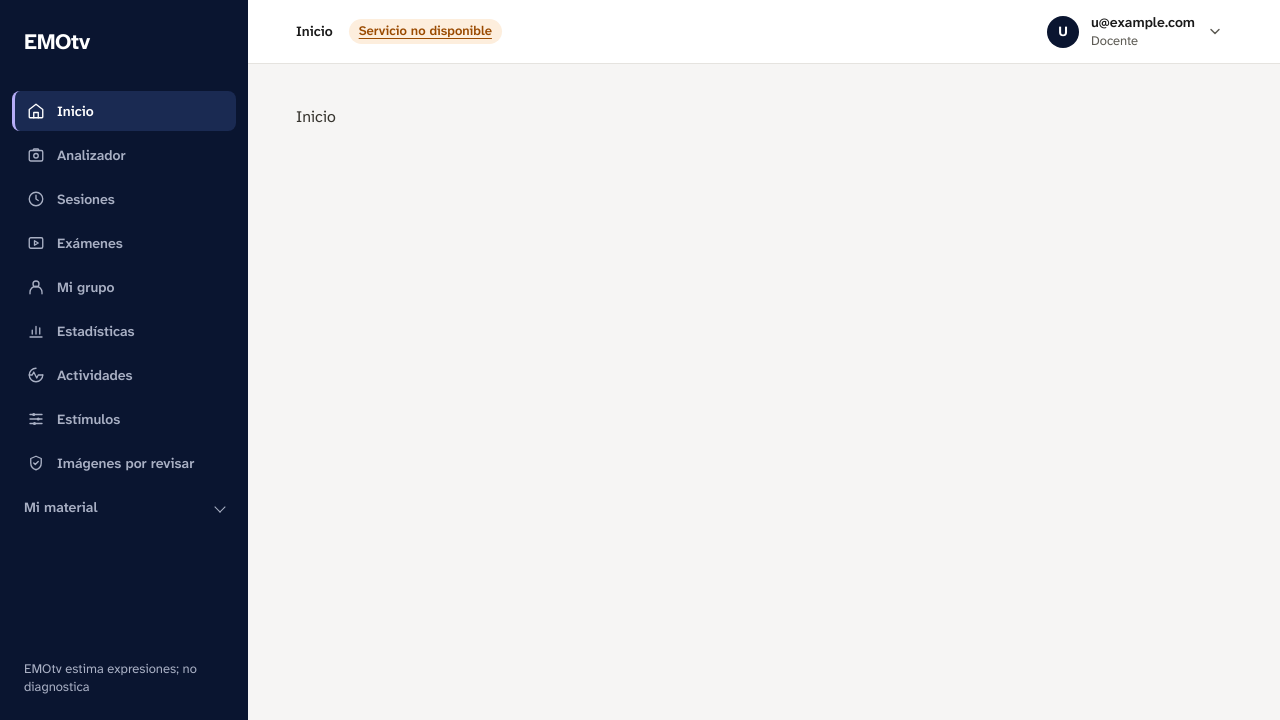
Test case: rutas y navegación por rol › abre el menú de usuario, muestra identidad y permite cerrar sesión
Click the button named "Menú de usuario".
click(1135, 32)  # box [1038, 10, 1232, 54]
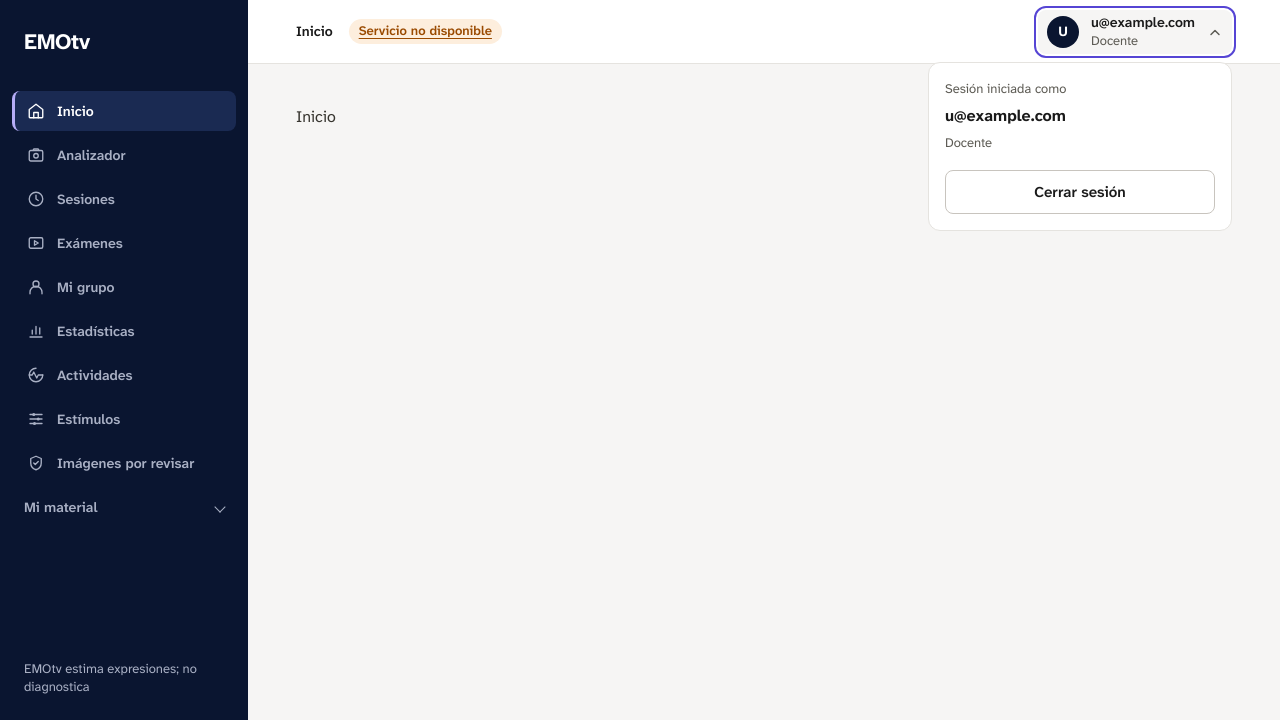
Check: the button named "Menú de usuario" is expanded, box [1038, 10, 1232, 54]
Check: the text "Sesión iniciada como" is shown, box [945, 80, 1066, 96]
Check: the button "Cerrar sesión" is shown, box [945, 170, 1215, 214]
Press Escape
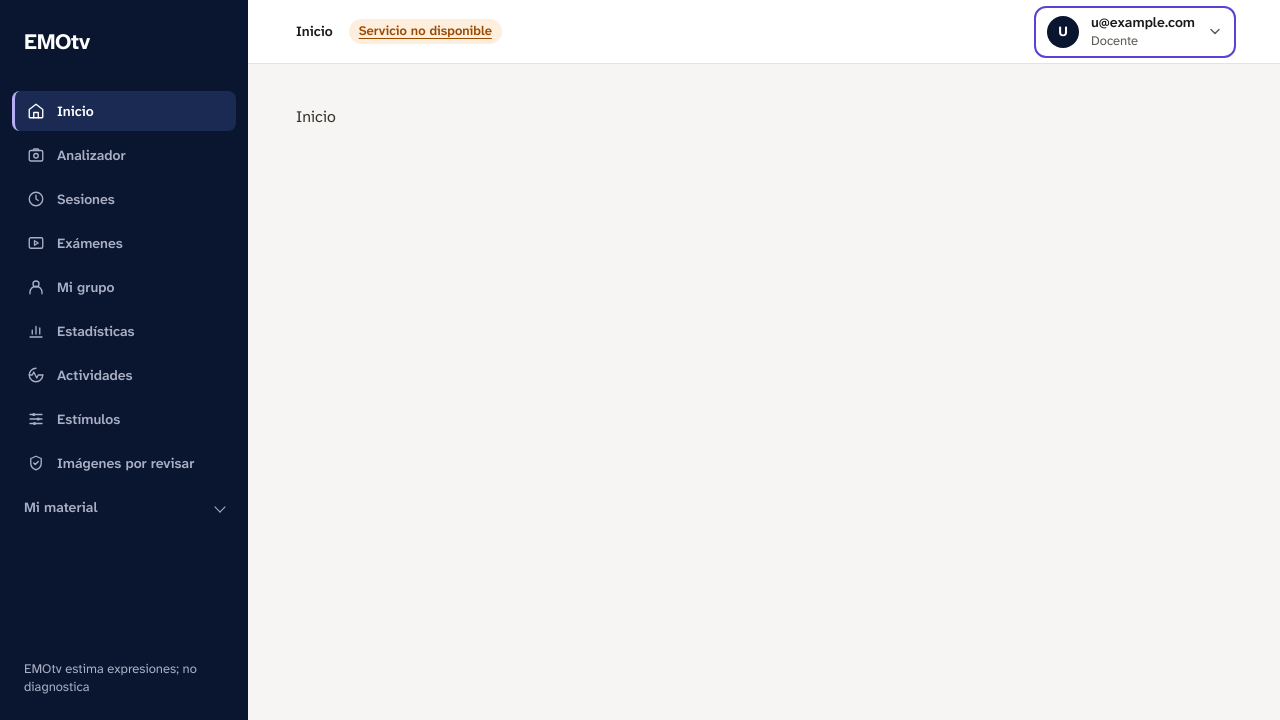
Check: the button named "Menú de usuario" is collapsed
Click the button named "Menú de usuario".
click(1135, 32)  # box [1038, 10, 1232, 54]
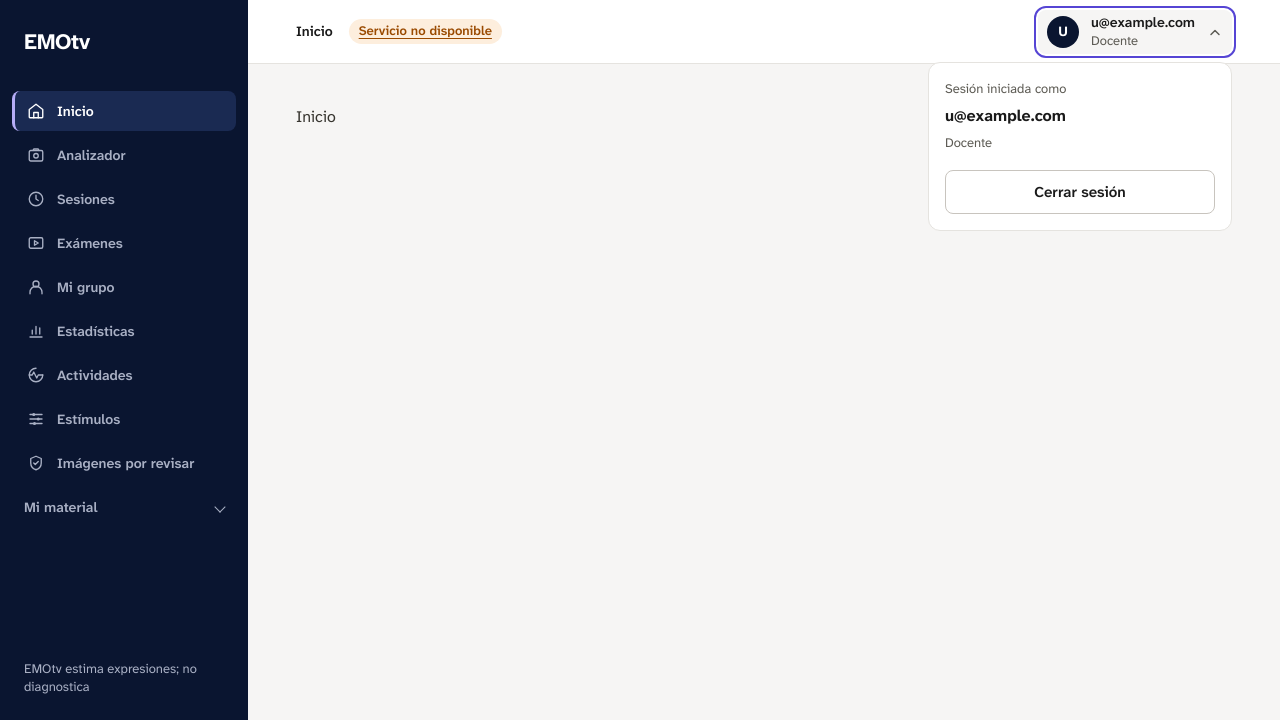
Click the button "Cerrar sesión".
click(1080, 192)  # box [945, 170, 1215, 214]
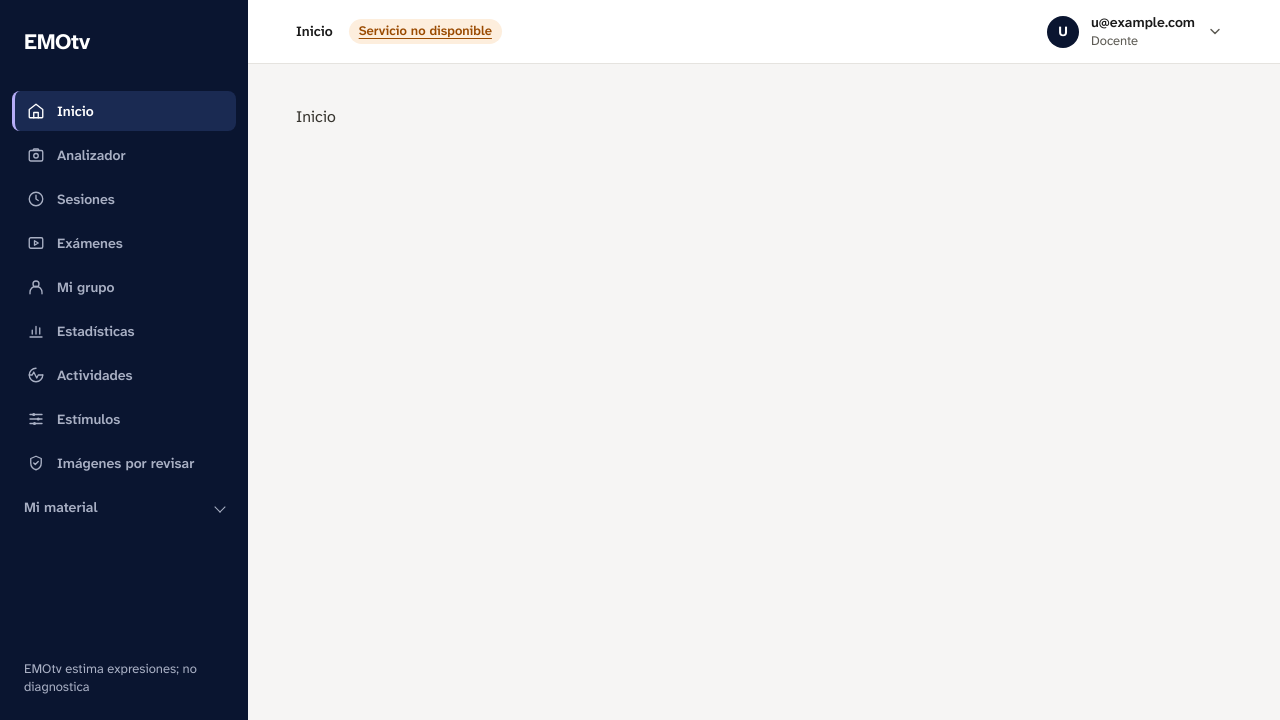
Check: the button "Cerrar sesión" is gone
